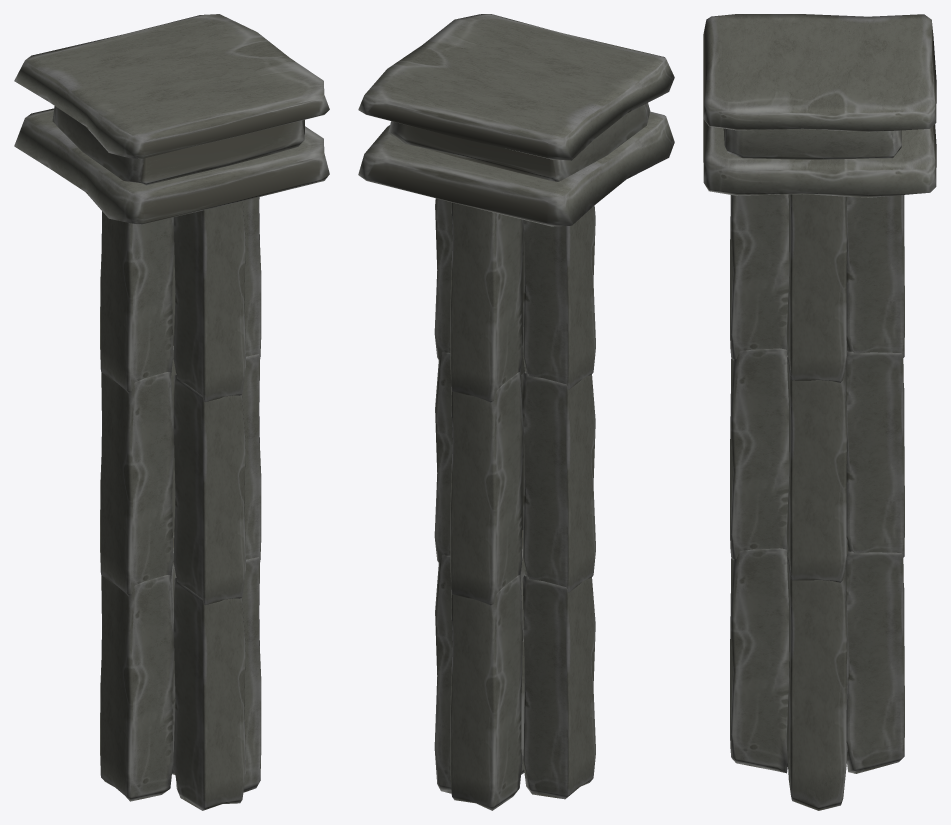
File: Colomn_B_BrokenA.fbx
3 views of the same model, side by side, from view 1: azimuth 30°, elevation 25°; view 2: azimuth 150°, elevation 25°; view 3: azimuth 270°, elevation 25° (orthographic).
Parts seen in each view (by area): view 1: Colomn_B_BrokenA; view 2: Colomn_B_BrokenA; view 3: Colomn_B_BrokenA.
Part boxes in pixels (<box>): Colomn_B_BrokenA: <box>14,14,329,810</box>; Colomn_B_BrokenA: <box>358,14,674,810</box>; Colomn_B_BrokenA: <box>703,14,936,810</box>.
Bounding box in the file's own units: 577 × 1878 × 549.
